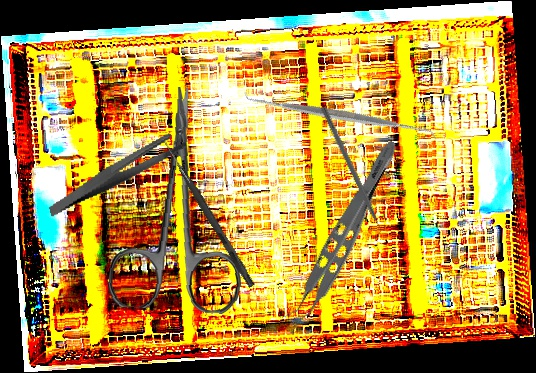Chopper: (313, 106, 388, 243)
Dressing Forceps: (38, 129, 196, 218)
Hook Surgical: (159, 139, 257, 288)
Iris Scissors: (106, 83, 255, 315)
Spatula Surgical: (243, 19, 438, 212)
Tissue Forceps: (280, 130, 403, 332)
